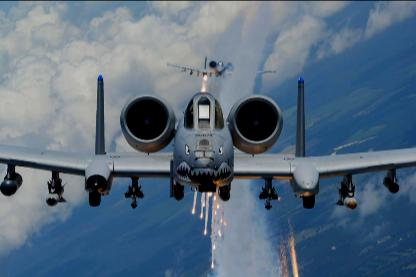A10: (0, 74, 416, 209), (166, 55, 276, 77)
